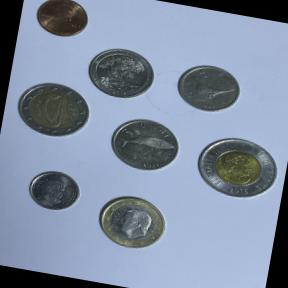coin: (188, 128, 287, 211), (8, 74, 98, 145), (90, 188, 174, 260), (103, 111, 187, 180), (80, 42, 162, 106), (22, 162, 89, 222), (29, 0, 94, 45)
